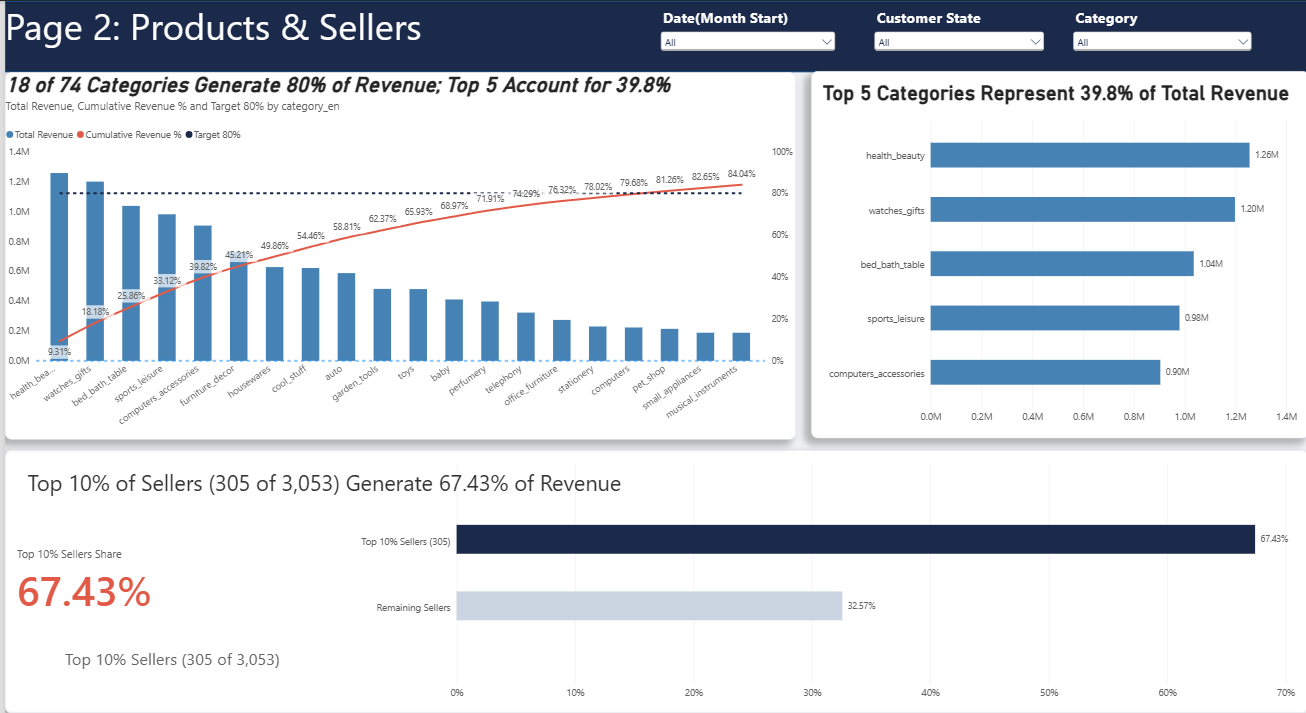

Layout of this report page (visuals, bound fields, positions):
{"tool":"powerbi","page":{"name":"Page 2","canvas":[1920,1080],"ordinal":1},"visuals":[{"type":"shape","box":[0,0,1919.6,104.9],"z":0},{"type":"textbox","box":[0,0,820.9,104.9],"z":1000},{"type":"slicer","fields":{"Values":["dim_customers.customer_state"]},"box":[1275.5,9.2,259.5,66.3],"z":2000},{"type":"slicer","fields":{"Values":["dim_products.category_en"]},"box":[1568.1,9.2,272.4,66.3],"z":4000},{"type":"slicer","fields":{"Values":["dim_orders.order_month"]},"box":[960.7,9.2,266.9,66.3],"z":5000},{"type":"cardVisual","title":"Seller Revenue Concentration","fields":{"Data":["fact_order_items.Top 10% Sellers Share"]},"box":[0,660.7,1919.6,388.3],"z":6500},{"type":"lineClusteredColumnComboChart","title":"18 of 74 Categories Generate 80% of Revenue; Top 5 Account for 39.8%","fields":{"Category":["dim_products.category_en"],"Y":["fact_order_items.Total Revenue"],"Y2":["fact_order_items.Cumulative Revenue %","dim_products.Target 80%"]},"box":[0,104.9,1165,541.1],"z":9000},{"type":"clusteredBarChart","title":"Top 10% Sellers Drive 67.43% of Revenue vs 32.57% for Remaining Sellers","fields":{"Category":["Seller Groups.Seller Group"],"Y":["Seller Groups.Seller Group Share %"]},"box":[496.9,660.7,1422.7,388.3],"z":10000},{"type":"textbox","box":[82.8,951.5,327.6,53.4],"z":11000},{"type":"textbox","box":[33.1,686.5,1192.6,66.3],"z":12000},{"type":"clusteredBarChart","title":"Top 5 Categories Represent 39.8% of Total Revenue","fields":{"Category":["dim_products.category_en"],"Y":["fact_order_items.Total Revenue"]},"box":[1187.1,103.1,732.5,541.1],"z":13000}]}

Visuals, with their boxes on the page's 1920x1080 design canvas (x1, y1, x2, y2). These are canvas units, not pixel positions in the 1306x713 screenshot, which may show the page scaled, cropped or inside an application window:
shape: bbox(0, 0, 1920, 105)
textbox: bbox(0, 0, 821, 105)
slicer - dim_customers.customer_state: bbox(1276, 9, 1535, 76)
slicer - dim_products.category_en: bbox(1568, 9, 1840, 76)
slicer - dim_orders.order_month: bbox(961, 9, 1228, 76)
"Seller Revenue Concentration" cardVisual: bbox(0, 661, 1920, 1049)
"18 of 74 Categories Generate 80% of Revenue; Top 5 Account for 39.8%" lineClusteredColumnComboChart: bbox(0, 105, 1165, 646)
"Top 10% Sellers Drive 67.43% of Revenue vs 32.57% for Remaining Sellers" clusteredBarChart: bbox(497, 661, 1920, 1049)
textbox: bbox(83, 952, 410, 1005)
textbox: bbox(33, 686, 1226, 753)
"Top 5 Categories Represent 39.8% of Total Revenue" clusteredBarChart: bbox(1187, 103, 1920, 644)
